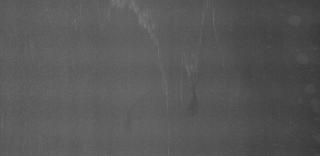silk spot: (156, 48, 178, 100), (182, 43, 202, 77), (136, 13, 164, 36), (101, 2, 139, 14)
